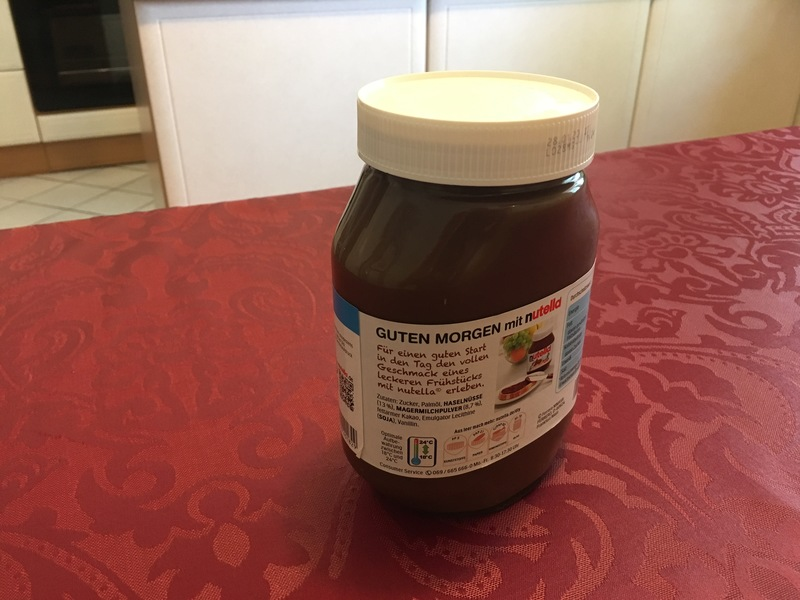nutella: (330, 70, 602, 518)
